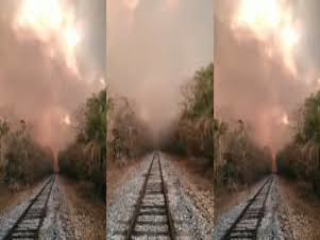smoke: (5, 27, 100, 168), (220, 24, 305, 169), (114, 29, 204, 154)
